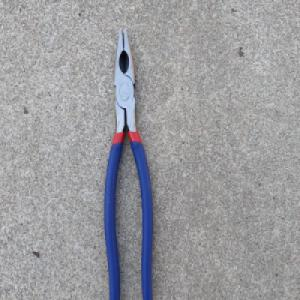Pliers: (102, 26, 153, 300)
